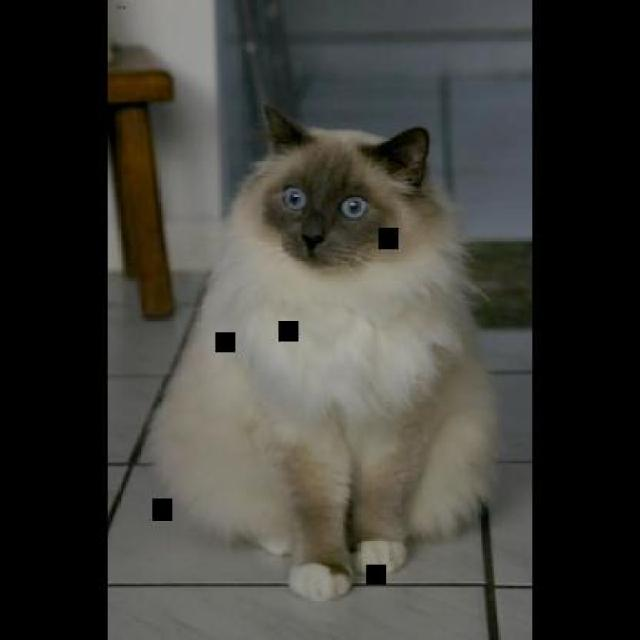unauthorized: (145, 100, 500, 602)
